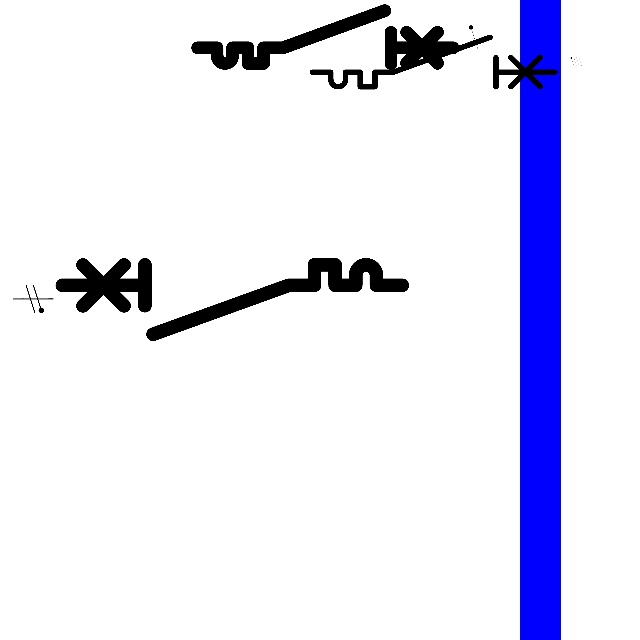interruptor_termomagnetico: (53, 256, 411, 343), (191, 4, 460, 70), (306, 31, 561, 93)
